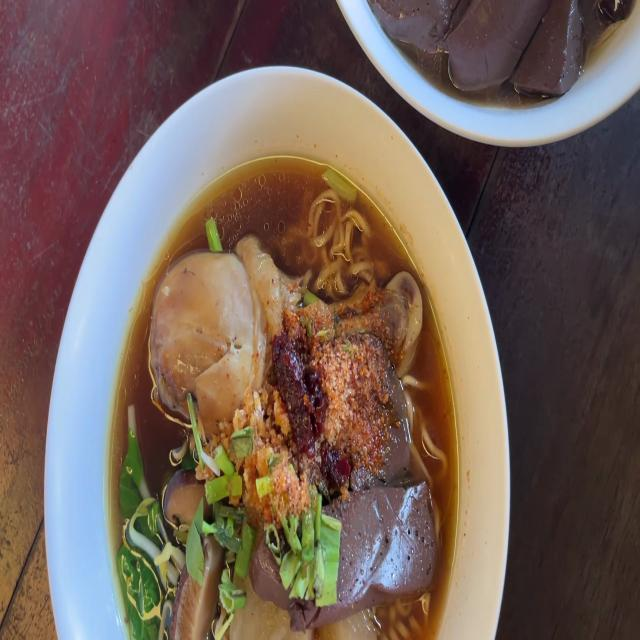boiled_chicken_blood_jelly: (368, 0, 601, 82), (336, 498, 431, 594), (246, 530, 338, 620), (386, 360, 410, 479)
chicken_drumstick: (148, 234, 423, 416)
daikon_radish: (225, 601, 372, 640)
noodle: (128, 197, 454, 640)
